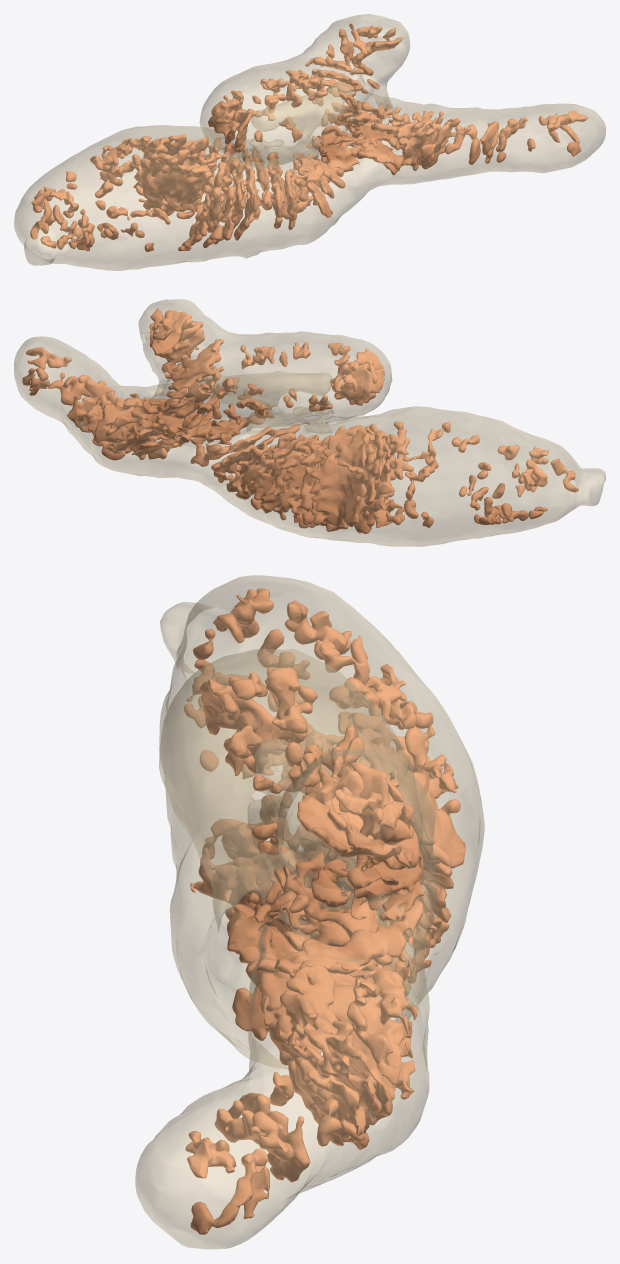
The model's file is em-mitochondrion-jurkat.glb.
3 views of the same model, one above another, from view 1: azimuth 30°, elevation 25°; view 2: azimuth 150°, elevation 25°; view 3: azimuth 270°, elevation 25° (orthographic). The views are drawn at different scales.
Parts seen in each view (by area): view 1: Outer envelope, Cristae (inner membrane folds, predicted); view 2: Outer envelope, Cristae (inner membrane folds, predicted); view 3: Outer envelope, Cristae (inner membrane folds, predicted).
Boxes of the visible parts, x1,y1,x2,y2 form: Outer envelope: (14, 14, 605, 270); Cristae (inner membrane folds, predicted): (30, 23, 587, 252); Outer envelope: (14, 299, 605, 546); Cristae (inner membrane folds, predicted): (22, 308, 578, 533); Outer envelope: (135, 575, 484, 1249); Cristae (inner membrane folds, predicted): (184, 588, 465, 1234).
Bounding box in the file's own units: 4284 × 1401 × 1135.
